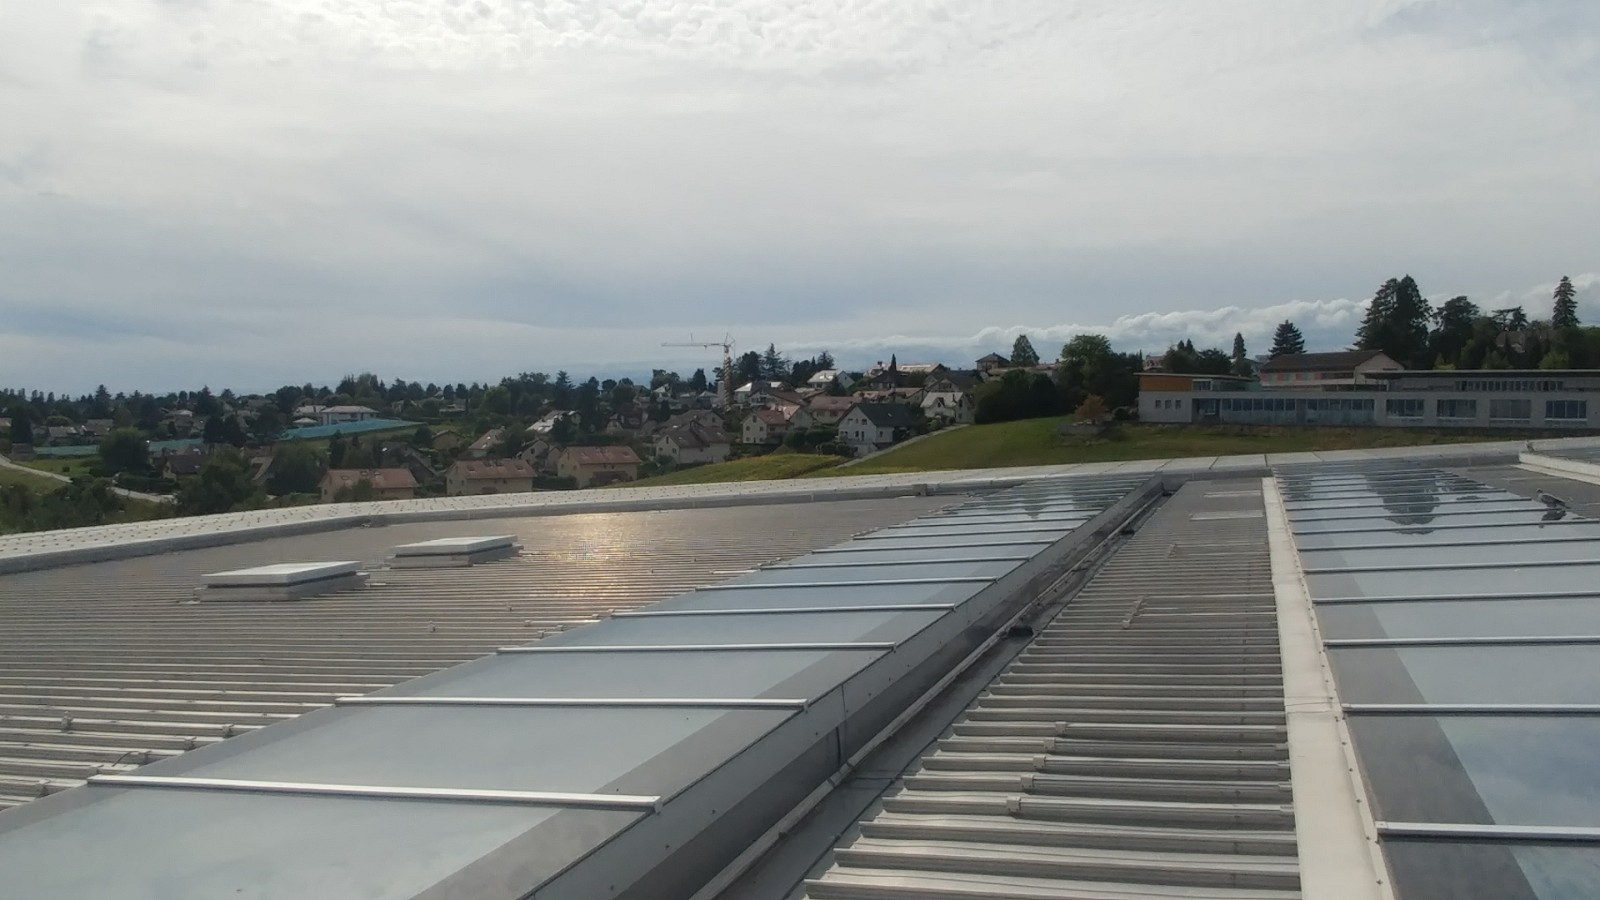Pigeon: (1534, 485, 1573, 514)
